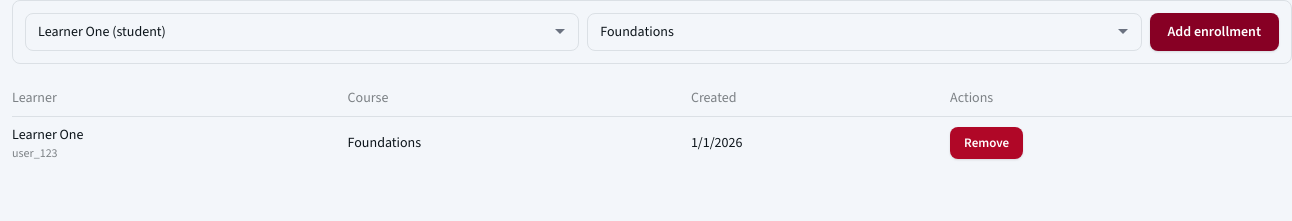
Scenario: ParishEnrollmentManager › shows a fallback save failure when an error response has invalid JSON
The image size is (1292, 221).
Click the button "Add enrollment": (1214, 32) [1150, 13, 1279, 51]
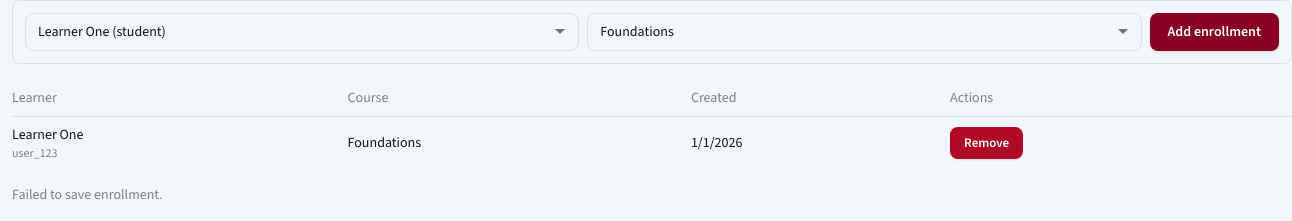
Result: the text "Failed to save enrollment." is shown at [12, 185, 163, 204]
